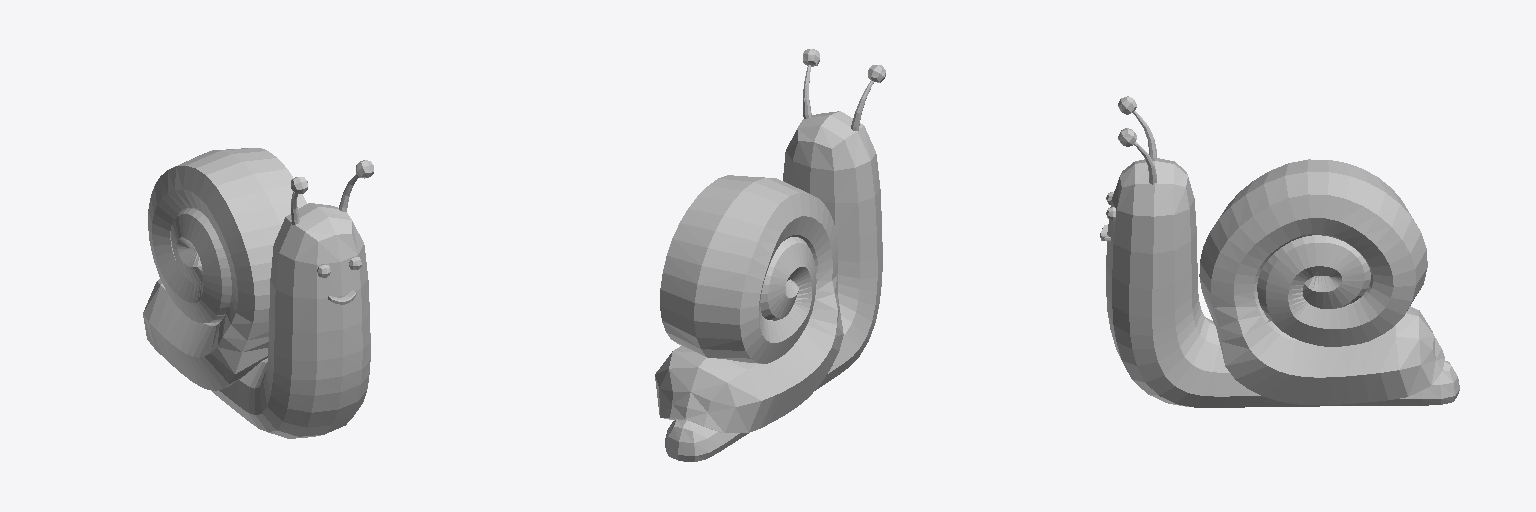
Rendered from snail04.obj.
3 renders of one model, left to right at view 1: azimuth 30°, elevation 25°; view 2: azimuth 150°, elevation 25°; view 3: azimuth 270°, elevation 25°, orthographic.
Visible parts, largest first — view 1: caparazon_CUBezierCurve, caracol_Cube.003, antenas_Cube.008; view 2: caparazon_CUBezierCurve, caracol_Cube.003, antenas_Cube.008; view 3: caparazon_CUBezierCurve, caracol_Cube.003, antenas_Cube.008.
Boxes of the visible parts, box(x1,y1,x2,y2) form: caparazon_CUBezierCurve: box(143, 148, 306, 390); caracol_Cube.003: box(211, 203, 370, 438); antenas_Cube.008: box(291, 160, 373, 224); caparazon_CUBezierCurve: box(655, 175, 843, 432); caracol_Cube.003: box(665, 111, 882, 461); antenas_Cube.008: box(803, 49, 885, 130); caparazon_CUBezierCurve: box(1199, 159, 1444, 404); caracol_Cube.003: box(1106, 158, 1459, 407); antenas_Cube.008: box(1118, 96, 1156, 184).
Size of the model in its own units: 3.69 by 8.7 by 9.9.